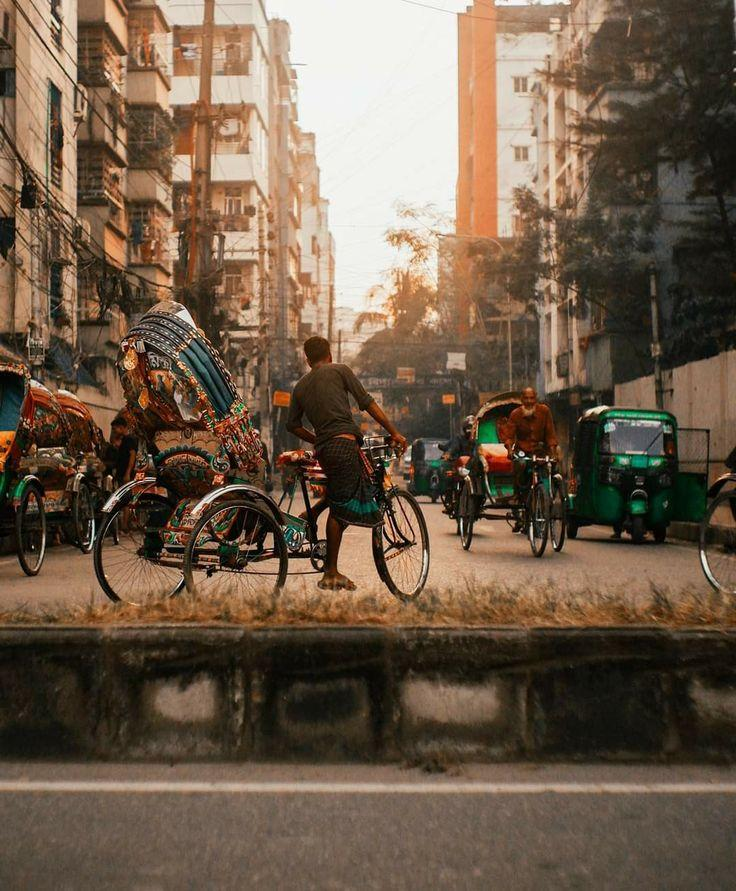Rickshaw: (67, 292, 444, 623), (450, 391, 548, 555), (0, 346, 54, 573), (24, 379, 77, 512), (518, 450, 564, 522), (57, 396, 95, 453)
